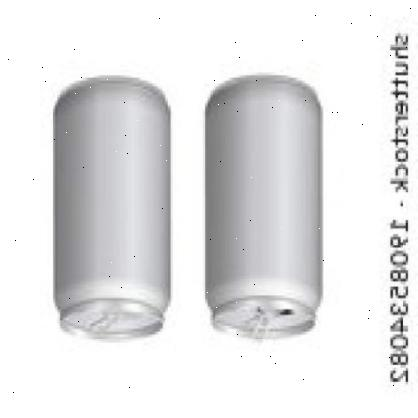can: (200, 76, 323, 344), (51, 76, 170, 342)
